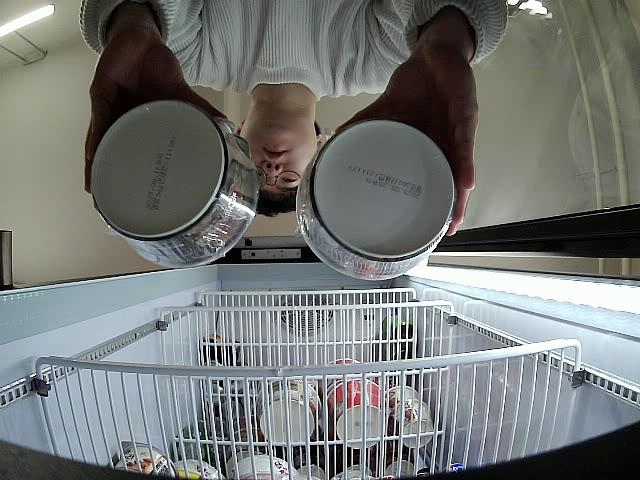00_hand: (335, 39, 478, 237), (81, 27, 226, 191)
07_buldak_L: (86, 99, 255, 266), (295, 120, 457, 284)
